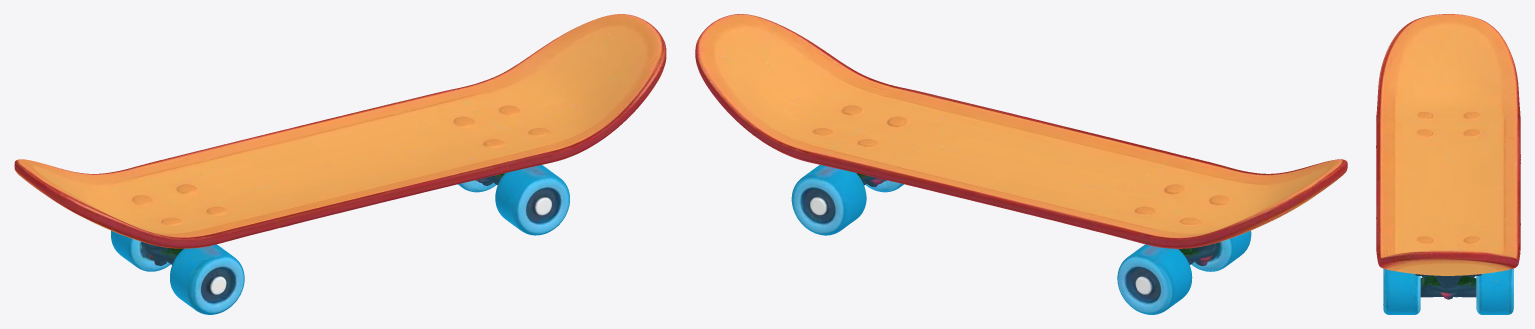
Rendered from Skateboard.glb.
3 renders of one model, left to right at view 1: azimuth 30°, elevation 25°; view 2: azimuth 150°, elevation 25°; view 3: azimuth 270°, elevation 25°, orthographic. The views are drawn at different scales.
Bounding box in the file's own units: 1.9 × 0.4329 × 0.4849.
1 material, 1 textured.
